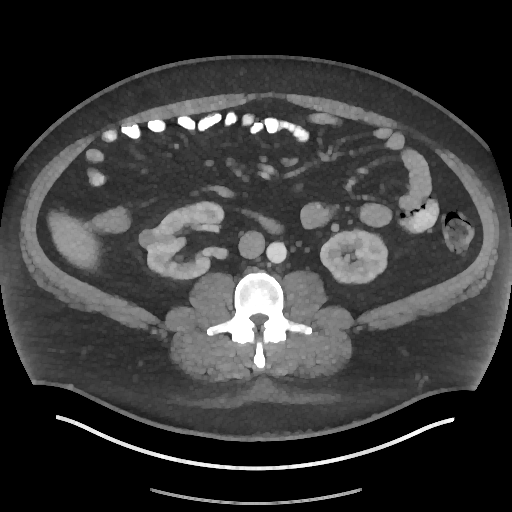Lesion: (136, 225, 160, 249)
